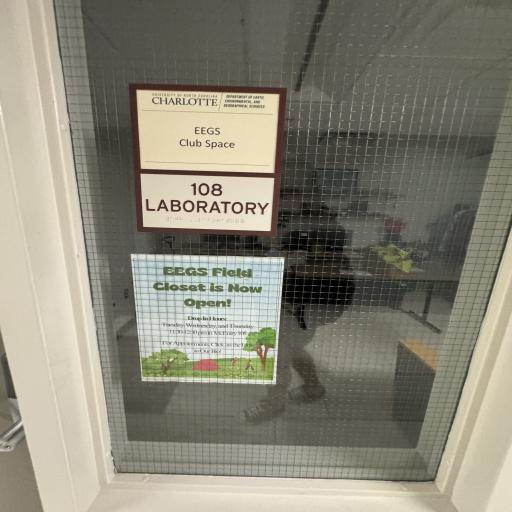room 108 sign: (124, 80, 296, 233)
sign: (127, 248, 286, 385)
